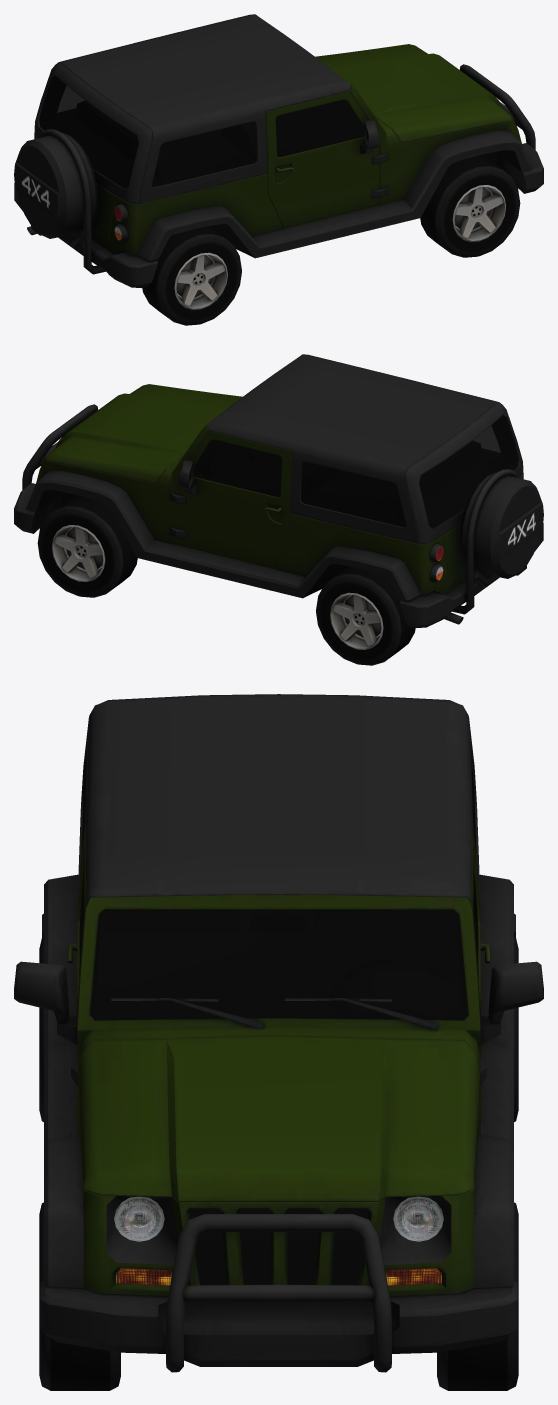
Rendered from offroad.glb.
3 renders of one model, top to bottom at view 1: azimuth 30°, elevation 25°; view 2: azimuth 150°, elevation 25°; view 3: azimuth 270°, elevation 25°, orthographic. The views are drawn at different scales.
Parts seen in each view (by area): view 1: body, wheel (×2); view 2: body, wheel (×2); view 3: body, wheel (×2).
Part boxes in pixels (left/top/right/bottom): body: left=14, top=14, right=543, bottom=287; wheel (×2): left=142, top=155, right=520, bottom=325; body: left=14, top=354, right=543, bottom=627; wheel (×2): left=37, top=495, right=415, bottom=665; body: left=14, top=694, right=543, bottom=1372; wheel (×2): left=39, top=1202, right=518, bottom=1390.
Size of the model in its own units: 3.94 by 1.57 by 1.96.
Materials: 4 (3 with a texture image).
